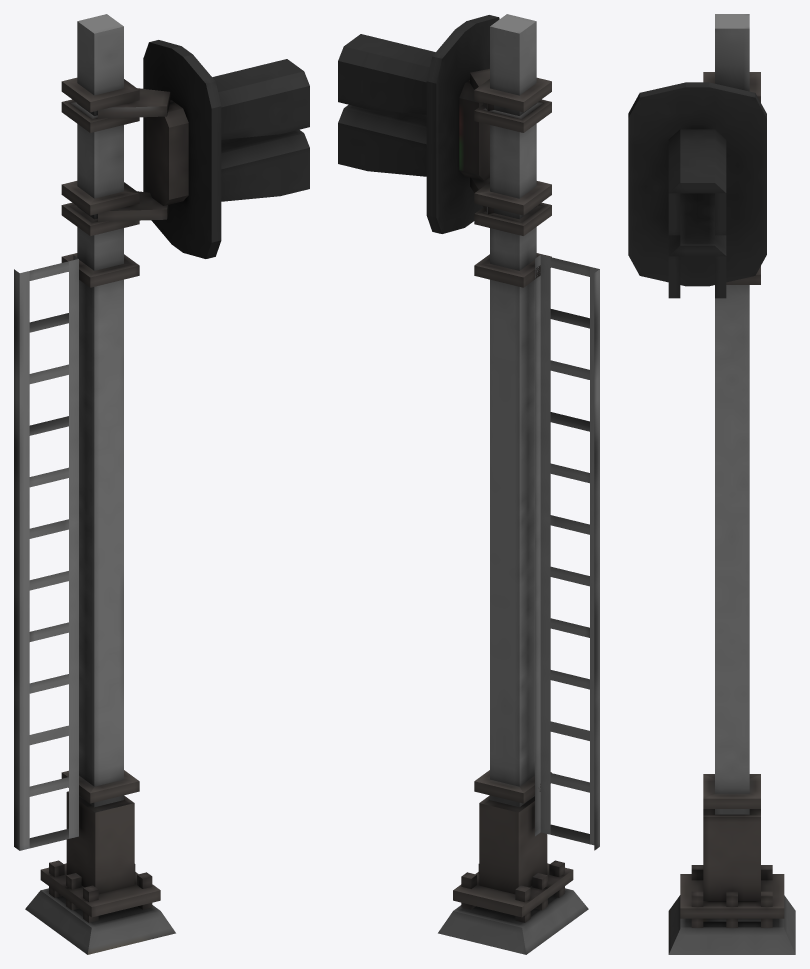
Rendered from mvp_ir_signal.obj.
3 views of the same model, side by side, from view 1: azimuth 30°, elevation 25°; view 2: azimuth 150°, elevation 25°; view 3: azimuth 270°, elevation 25° (orthographic).
Parts seen in each view (by area): view 1: RAIL_BASE_signal, RAIL_RIGHT_signal, RAIL_LEFT_signal; view 2: RAIL_BASE_signal, RAIL_RIGHT_signal, RAIL_LEFT_signal; view 3: RAIL_BASE_signal, RAIL_LEFT_signal.
Boxes of the visible parts, <box> form: RAIL_BASE_signal: <box>14,14,309,954</box>; RAIL_RIGHT_signal: <box>61,253,139,287</box>; RAIL_LEFT_signal: <box>61,770,139,803</box>; RAIL_BASE_signal: <box>338,14,599,954</box>; RAIL_RIGHT_signal: <box>474,253,551,287</box>; RAIL_LEFT_signal: <box>474,770,551,803</box>; RAIL_BASE_signal: <box>628,14,795,954</box>; RAIL_LEFT_signal: <box>703,774,760,808</box>.
Bounding box in the file's own units: 1.66 × 5.44 × 0.9063.
1 material, 1 textured.
